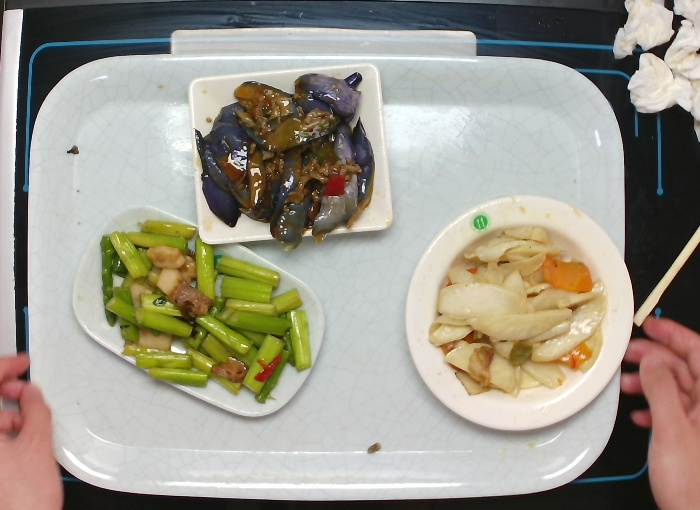WCQzf-Bai_Se_Si_Fang_Die: (184, 54, 396, 245)
WCQzf-Kuan_Bian_Yuan_Die: (382, 189, 642, 436)
WCQzf-Tuo_Yuan_Pan: (70, 200, 328, 420)
